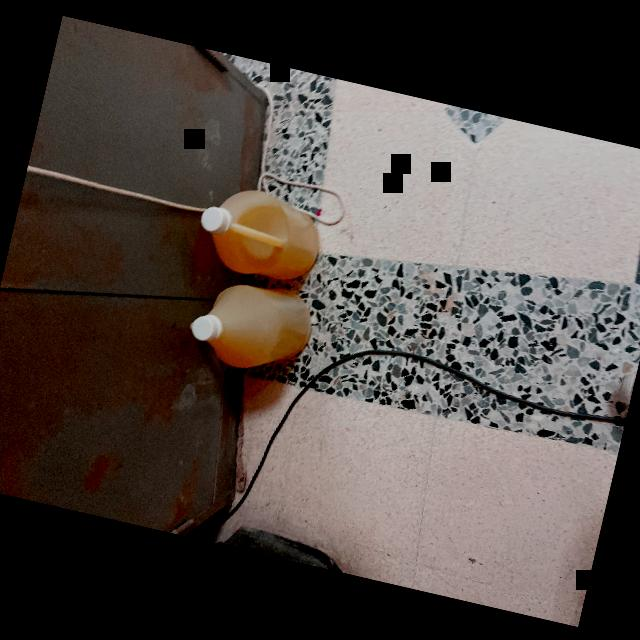chemical_plastic_gallon: (169, 264, 324, 388), (186, 170, 334, 293)
